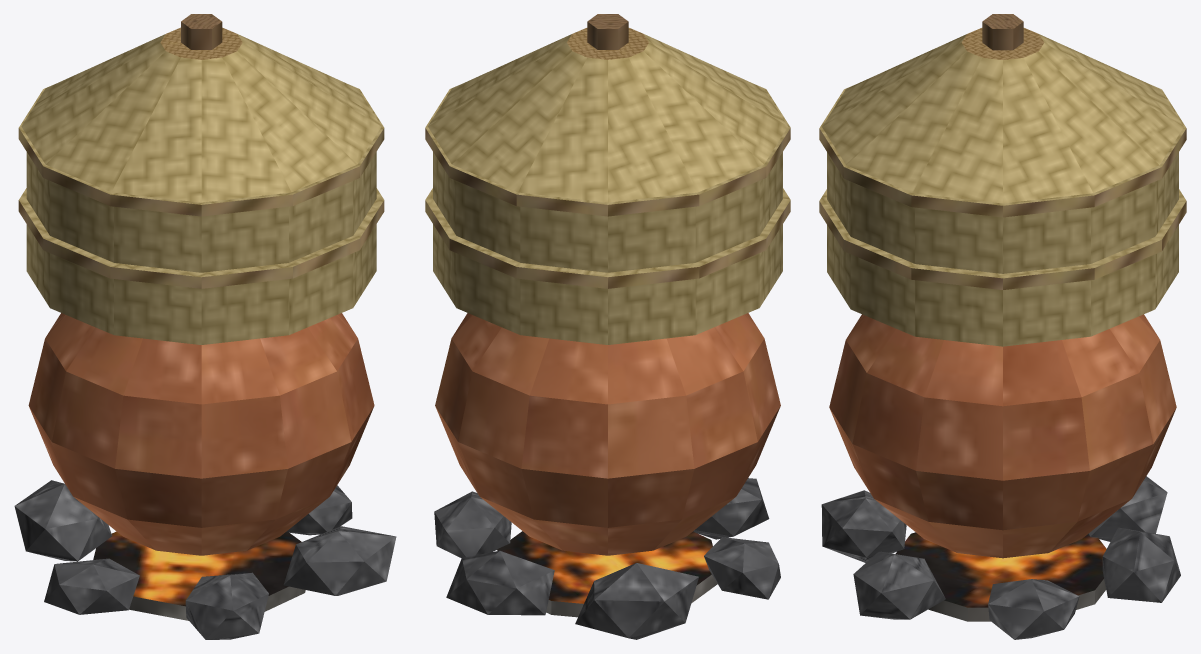
The model's file is steamer.glb.
3 views of the same model, side by side, from view 1: azimuth 30°, elevation 25°; view 2: azimuth 150°, elevation 25°; view 3: azimuth 270°, elevation 25° (orthographic).
Visible parts, largest first — view 1: steamer; view 2: steamer; view 3: steamer.
Boxes of the visible parts, x1,y1,x2,y2 form: steamer: (14,14,396,639); steamer: (425,14,790,639); steamer: (819,14,1186,639).
Bounding box in the file's own units: 0.7119 × 1.2 × 0.71.
1 material, 1 textured.
